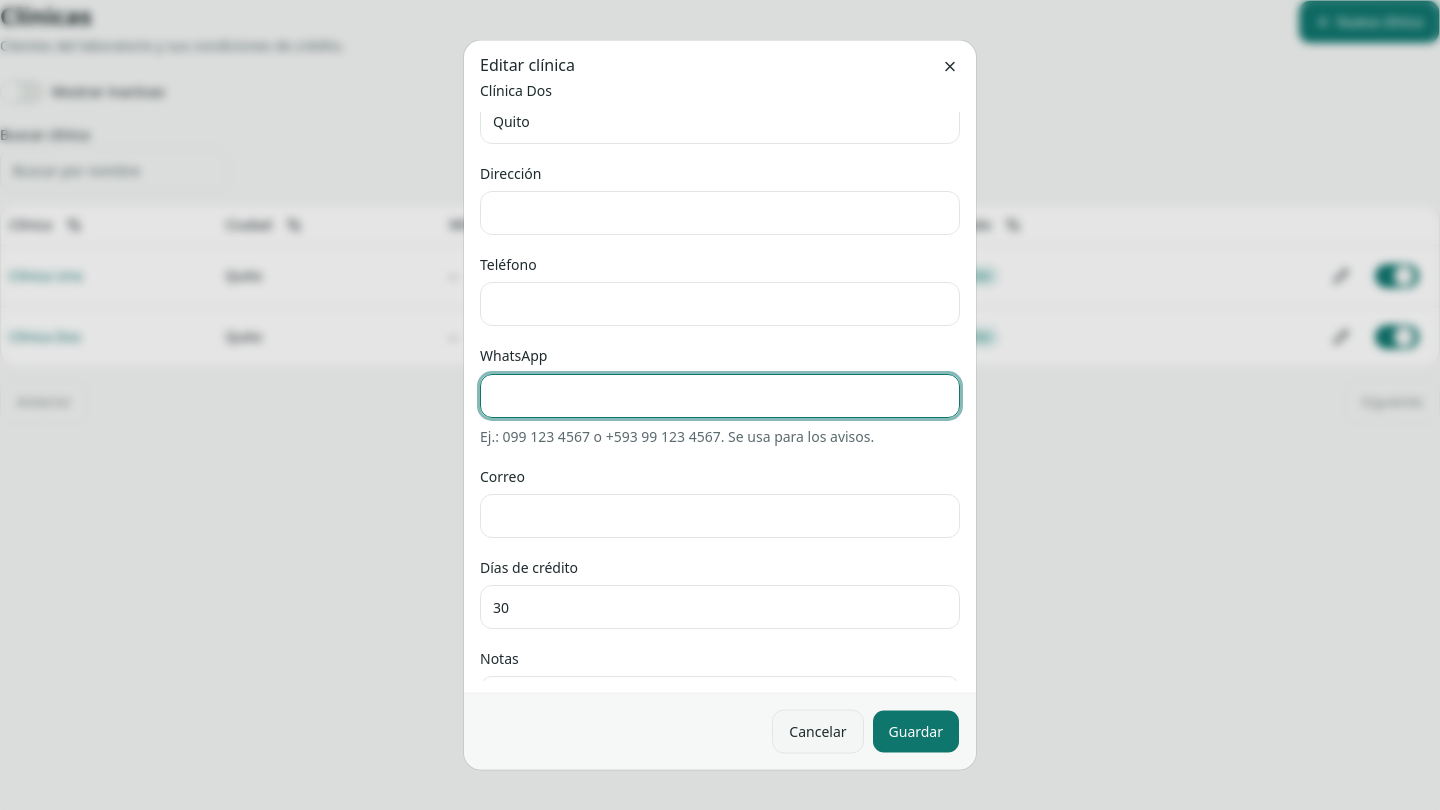
ClinicsPage ?editar (AVI-4) › cancelar vuelve a la ficha sin aviso ni foco
The width and height of the screenshot is (1440, 810).
(page scrolled)
Click the button "Cancelar" at {"x": 818, "y": 732}, box [772,710,864,754]
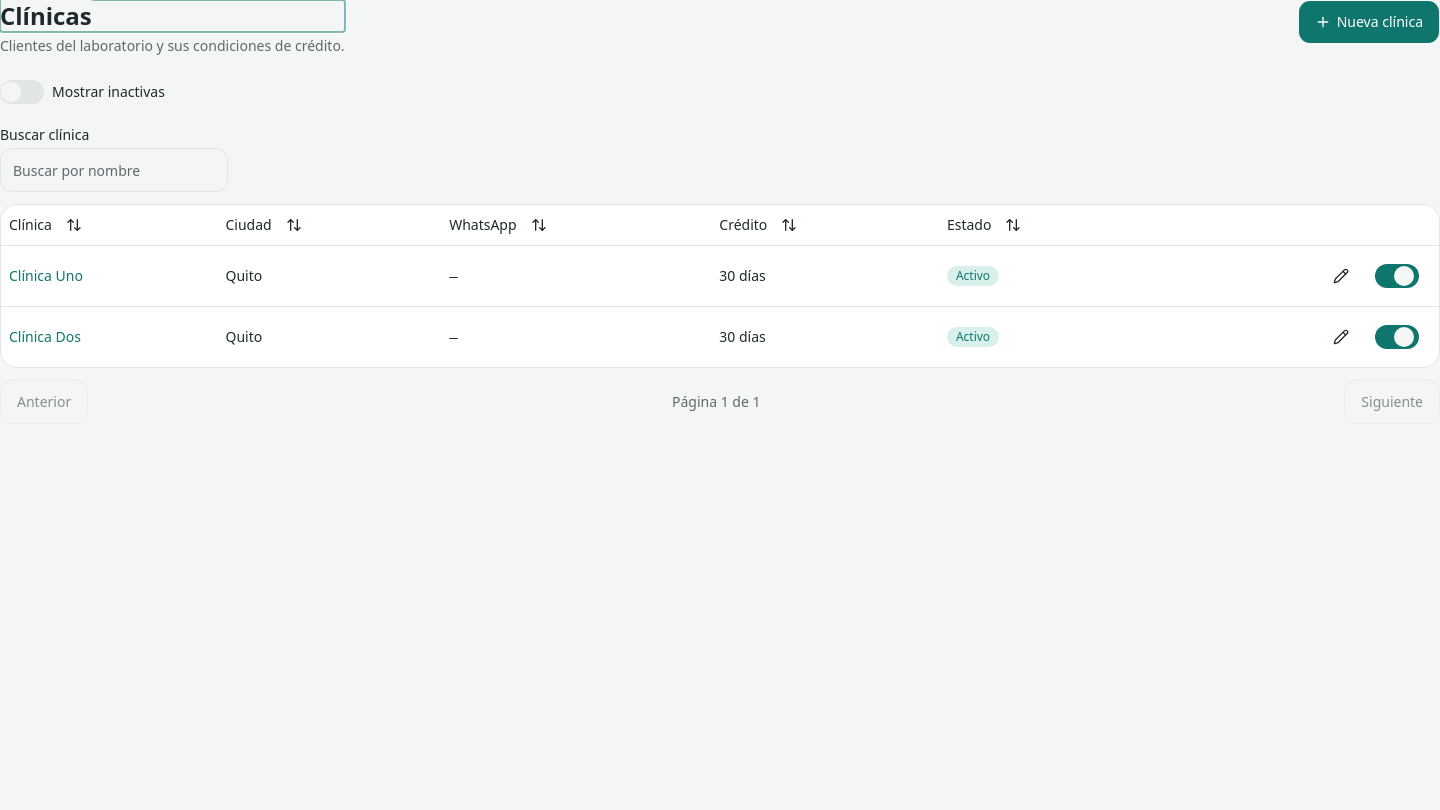
Expected: the dialog is gone
